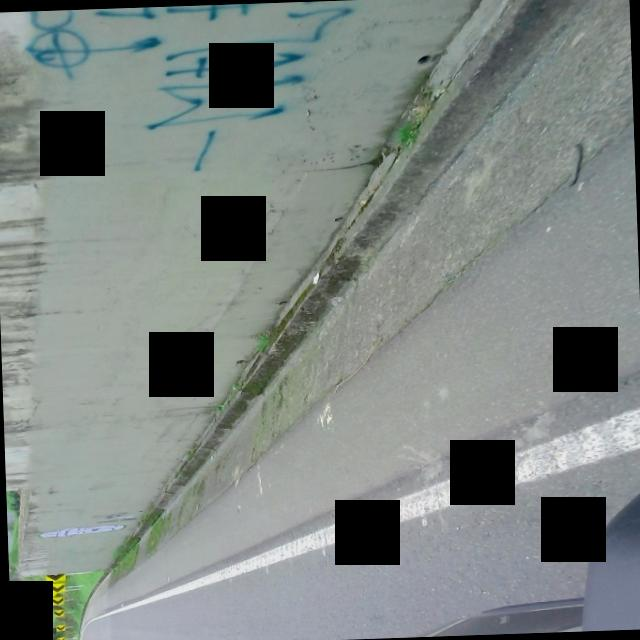DITCH: (53, 0, 640, 632), (131, 0, 640, 640)
